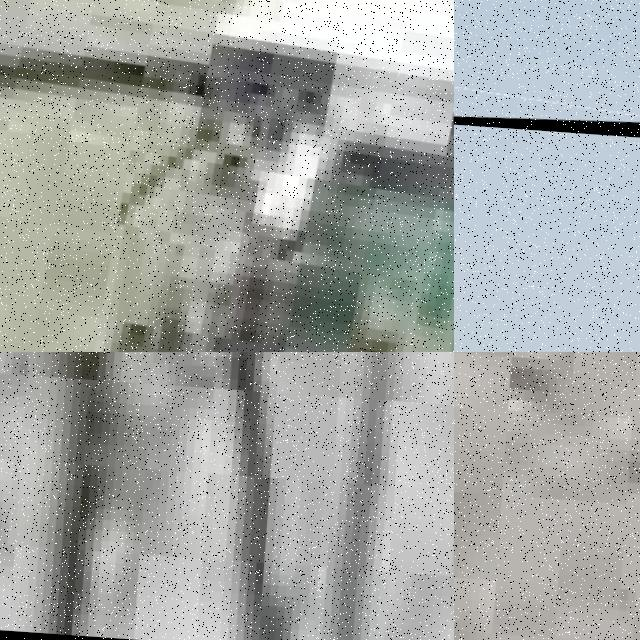drone: (0, 0, 454, 352), (454, 0, 640, 152)
